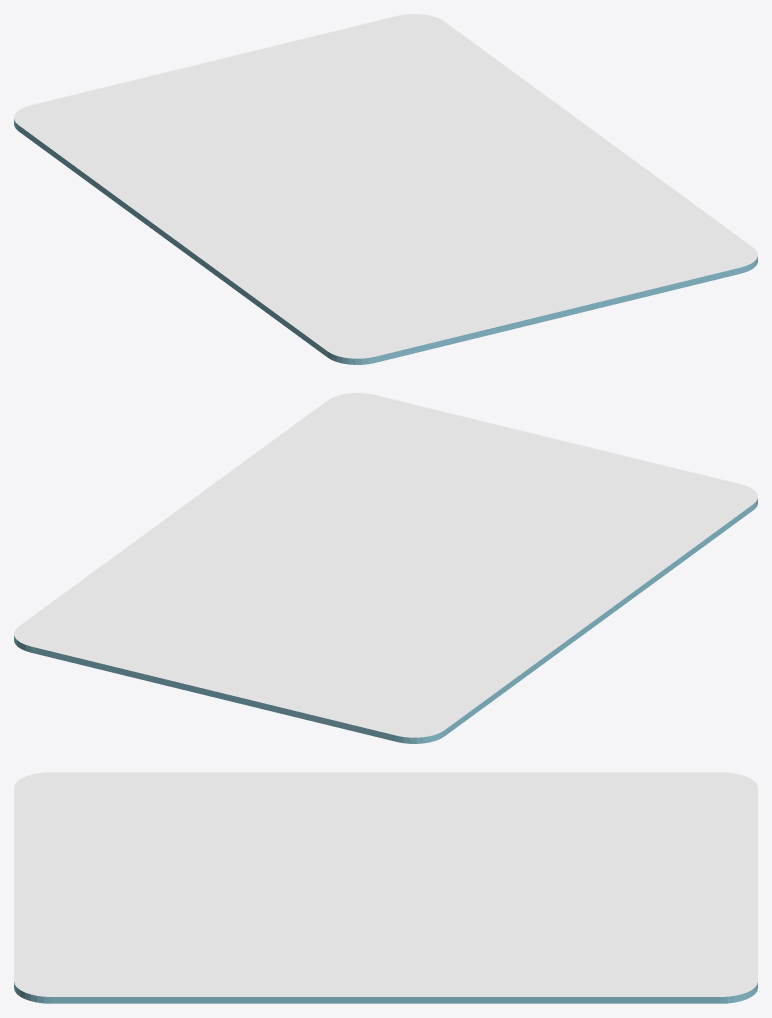
File: card_shatter_09.glb
The picture shows the model from 3 angles, top to bottom: view 1: azimuth 30°, elevation 25°; view 2: azimuth 150°, elevation 25°; view 3: azimuth 270°, elevation 25°; orthographic projection. The views are drawn at different scales.
Visible parts, largest first — view 1: V09_CardPiece_10, V09_CardPiece_03, V09_CardPiece_01, V09_CardPiece_05, V09_CardPiece_06, V09_CardPiece_07, V09_CardPiece_08, V09_CardPiece_02, V09_CardPiece_04, V09_CardPiece_09; view 2: V09_CardPiece_10, V09_CardPiece_01, V09_CardPiece_03, V09_CardPiece_06, V09_CardPiece_07, V09_CardPiece_05, V09_CardPiece_08, V09_CardPiece_02, V09_CardPiece_04, V09_CardPiece_09; view 3: V09_CardPiece_10, V09_CardPiece_05, V09_CardPiece_03, V09_CardPiece_01, V09_CardPiece_07, V09_CardPiece_06, V09_CardPiece_08, V09_CardPiece_02, V09_CardPiece_04, V09_CardPiece_09.
Boxes of the visible parts, left/top/right/bottom form: V09_CardPiece_10: left=283, top=14, right=608, bottom=153; V09_CardPiece_03: left=407, top=214, right=639, bottom=354; V09_CardPiece_01: left=159, top=203, right=409, bottom=364; V09_CardPiece_05: left=577, top=142, right=757, bottom=298; V09_CardPiece_06: left=14, top=95, right=273, bottom=233; V09_CardPiece_07: left=74, top=54, right=292, bottom=200; V09_CardPiece_08: left=239, top=44, right=419, bottom=196; V09_CardPiece_02: left=270, top=187, right=435, bottom=339; V09_CardPiece_04: left=410, top=150, right=591, bottom=258; V09_CardPiece_09: left=281, top=44, right=539, bottom=182; V09_CardPiece_10: left=14, top=506, right=242, bottom=680; V09_CardPiece_01: left=478, top=476, right=757, bottom=633; V09_CardPiece_03: left=418, top=419, right=705, bottom=532; V09_CardPiece_06: left=354, top=599, right=584, bottom=743; V09_CardPiece_07: left=188, top=594, right=471, bottom=731; V09_CardPiece_05: left=184, top=393, right=475, bottom=513; V09_CardPiece_08: left=147, top=554, right=452, bottom=690; V09_CardPiece_02: left=377, top=480, right=690, bottom=599; V09_CardPiece_04: left=216, top=454, right=430, bottom=555; V09_CardPiece_09: left=145, top=525, right=362, bottom=680; V09_CardPiece_10: left=363, top=921, right=757, bottom=1003; V09_CardPiece_05: left=14, top=927, right=363, bottom=1003; V09_CardPiece_03: left=14, top=806, right=296, bottom=927; V09_CardPiece_01: left=14, top=772, right=415, bottom=829; V09_CardPiece_07: left=413, top=810, right=757, bottom=897; V09_CardPiece_06: left=411, top=772, right=757, bottom=831; V09_CardPiece_08: left=370, top=842, right=757, bottom=919; V09_CardPiece_02: left=34, top=809, right=413, bottom=893; V09_CardPiece_04: left=114, top=889, right=374, bottom=979; V09_CardPiece_09: left=374, top=899, right=757, bottom=962.
Size of the model in its own units: 0.429 by 0.006 by 0.6.
